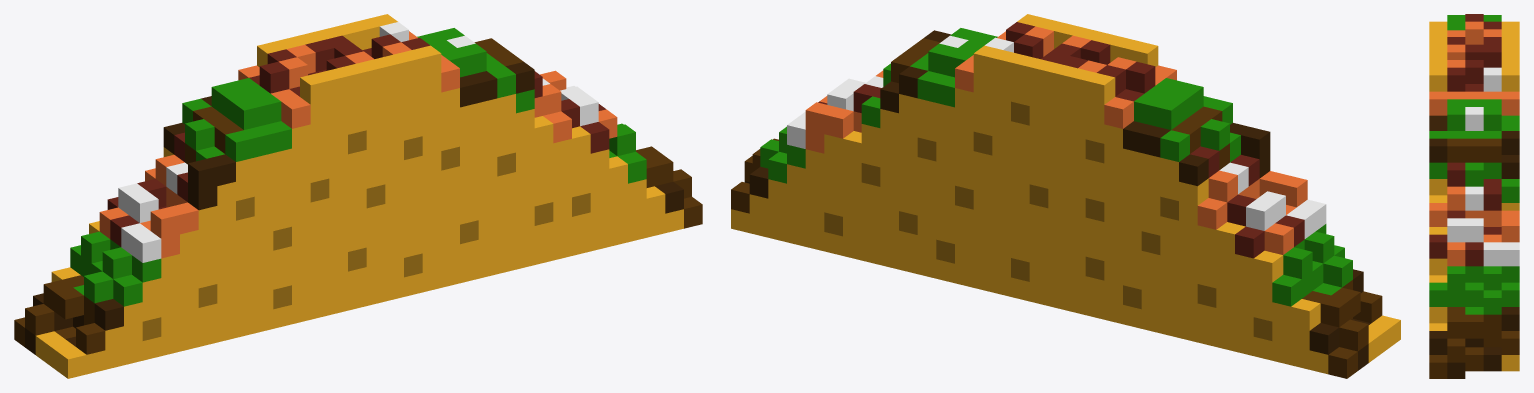
Rendered from taco.obj.
3 views of the same model, side by side, from view 1: azimuth 30°, elevation 25°; view 2: azimuth 150°, elevation 25°; view 3: azimuth 270°, elevation 25° (orthographic). The views are drawn at different scales.
Size of the model in its own units: 3.4 by 1.2 by 0.5.
1 material, 1 textured.
